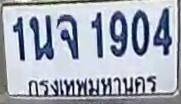0: (131, 9, 149, 55)
1: (90, 12, 103, 58), (12, 16, 25, 61)
4: (152, 7, 172, 55)
9: (109, 11, 127, 57)
A08: (56, 14, 78, 60)
A25: (29, 14, 54, 60)
BKK: (26, 75, 159, 99)
